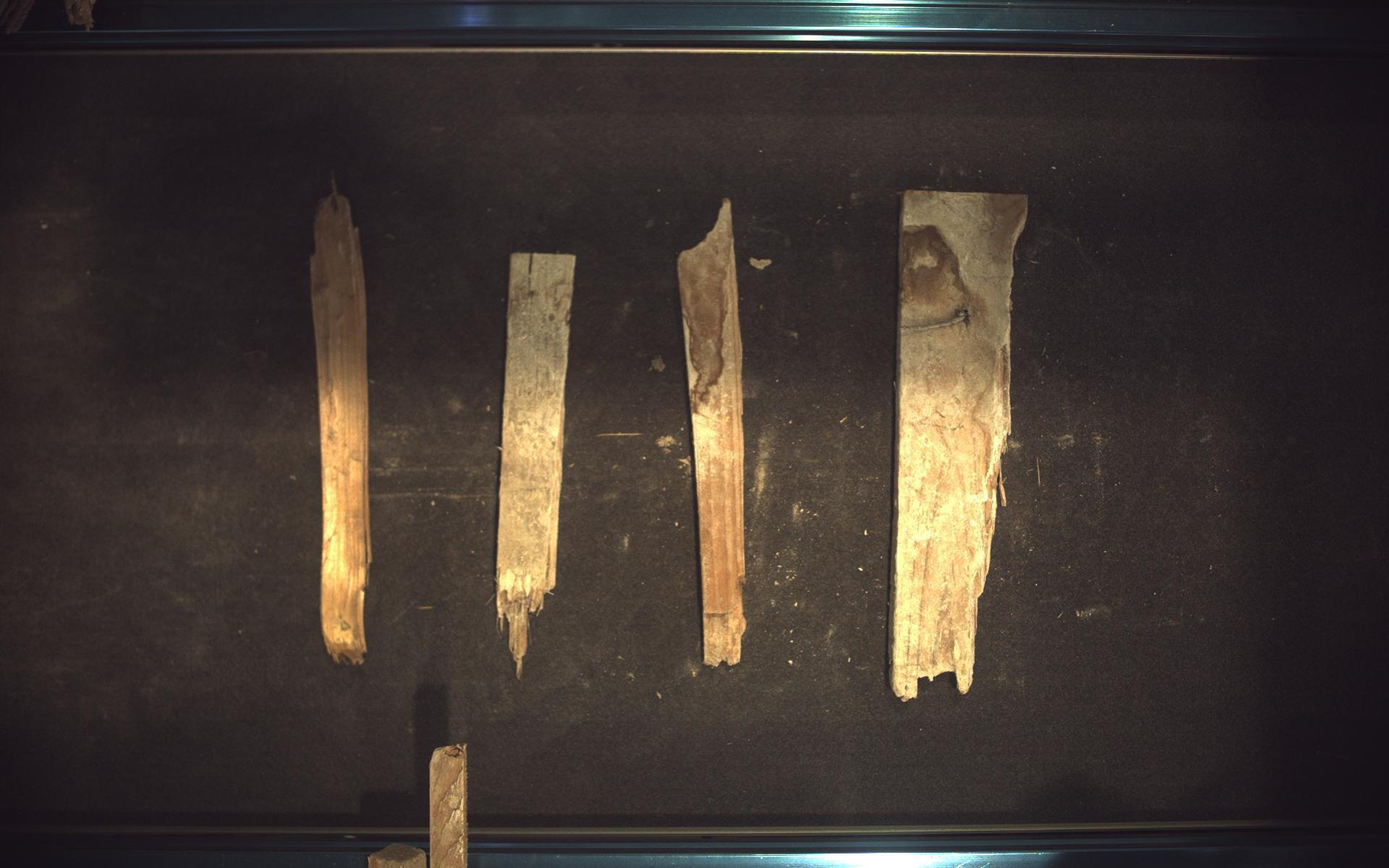wood: (893, 189, 1029, 702), (496, 252, 576, 678), (679, 199, 747, 667), (310, 183, 370, 665), (429, 745, 468, 868), (368, 845, 427, 868)
